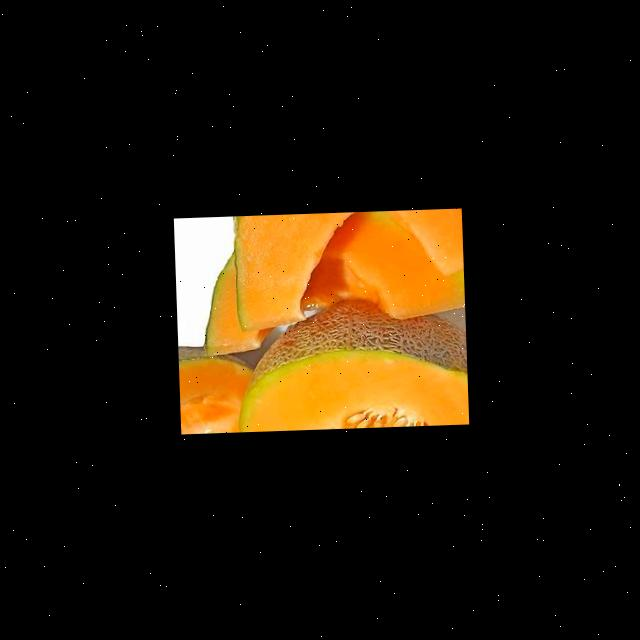Hami Melon: (237, 301, 468, 431), (232, 207, 464, 325)
